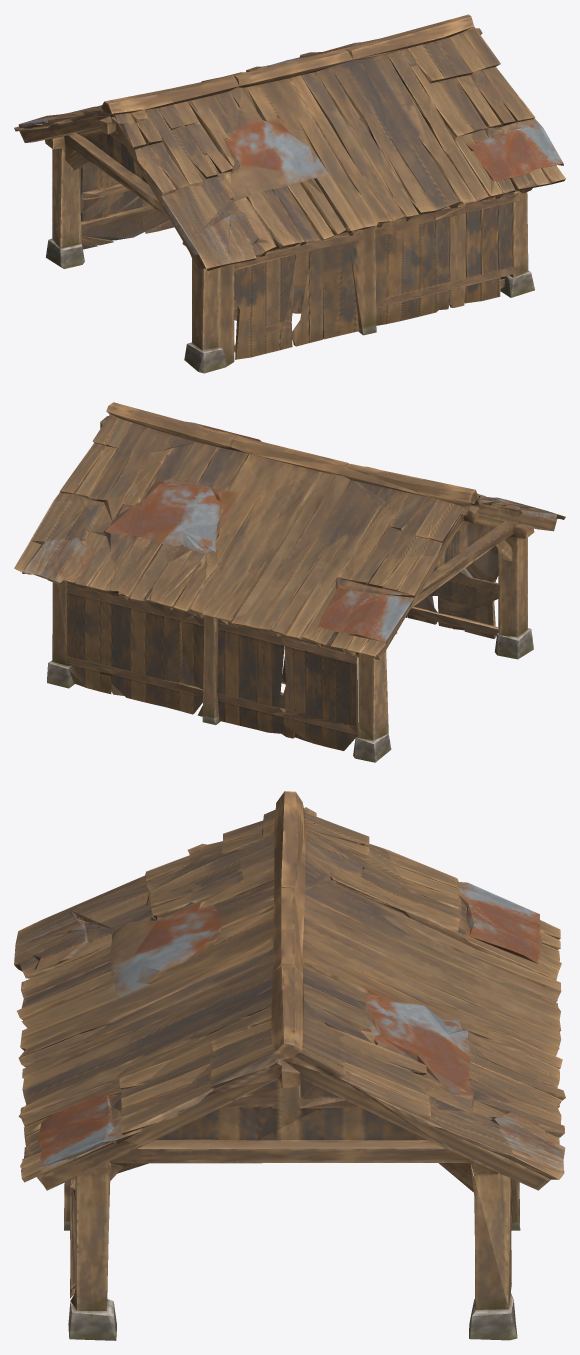
The model's file is shed.glb.
The picture shows the model from 3 angles, top to bottom: view 1: azimuth 30°, elevation 25°; view 2: azimuth 150°, elevation 25°; view 3: azimuth 270°, elevation 25°; orthographic projection. The views are drawn at different scales.
Parts seen in each view (by area): view 1: RoofSurface_00, Mesh_0; view 2: RoofSurface_00, Mesh_0; view 3: RoofSurface_00, Mesh_0.
Boxes of the visible parts, <box> form: RoofSurface_00: <box>14,14,565,270</box>; Mesh_0: <box>19,130,534,373</box>; RoofSurface_00: <box>14,402,565,659</box>; Mesh_0: <box>27,536,533,762</box>; RoofSurface_00: <box>14,791,565,1190</box>; Mesh_0: <box>37,1163,550,1340</box>.
Bounding box in the file's own units: 6.1 × 3.4 × 5.5.
1 material, 1 textured.
